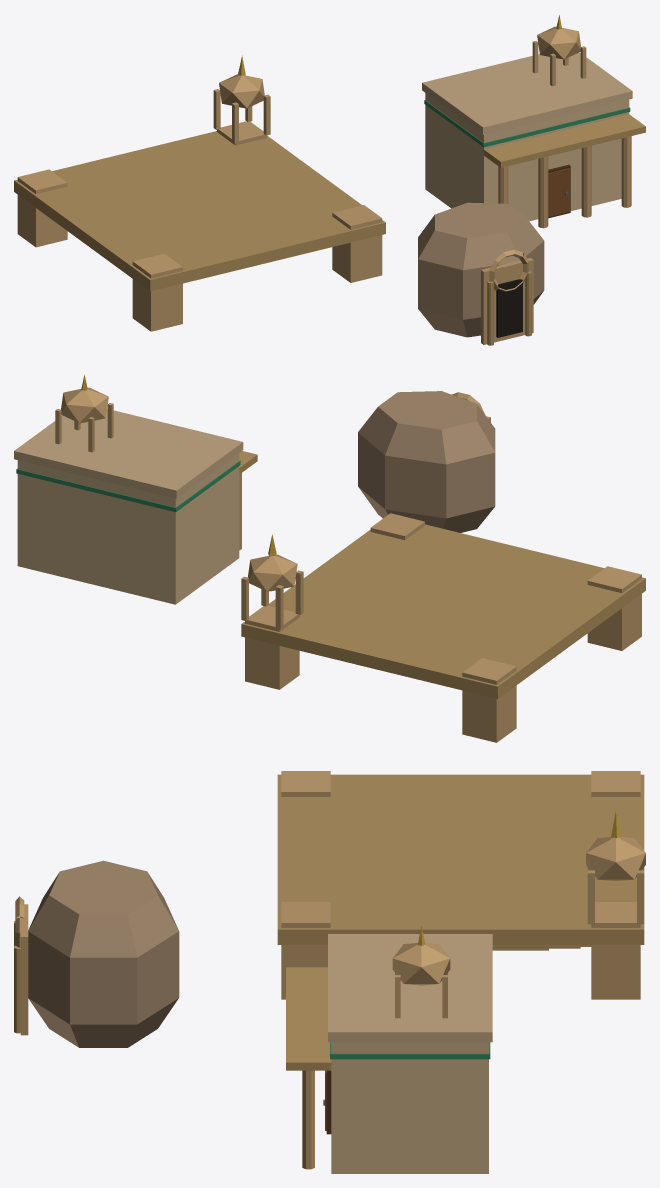
The model's file is cat_compound.glb.
The picture shows the model from 3 angles, top to bottom: view 1: azimuth 30°, elevation 25°; view 2: azimuth 150°, elevation 25°; view 3: azimuth 270°, elevation 25°; orthographic projection. The views are drawn at different scales.
Visible parts, largest first — view 1: cat_compound; view 2: cat_compound; view 3: cat_compound.
Part boxes in pixels (bbox=[...]): cat_compound: bbox=[14, 15, 645, 345]; cat_compound: bbox=[14, 374, 645, 742]; cat_compound: bbox=[14, 771, 645, 1173].
Size of the model in its own units: 5.52 by 1.79 by 4.48.
